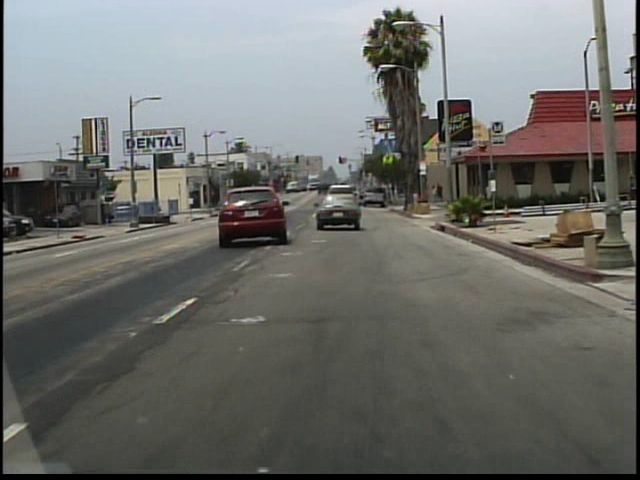person: (437, 182, 445, 202), (430, 183, 437, 204)
